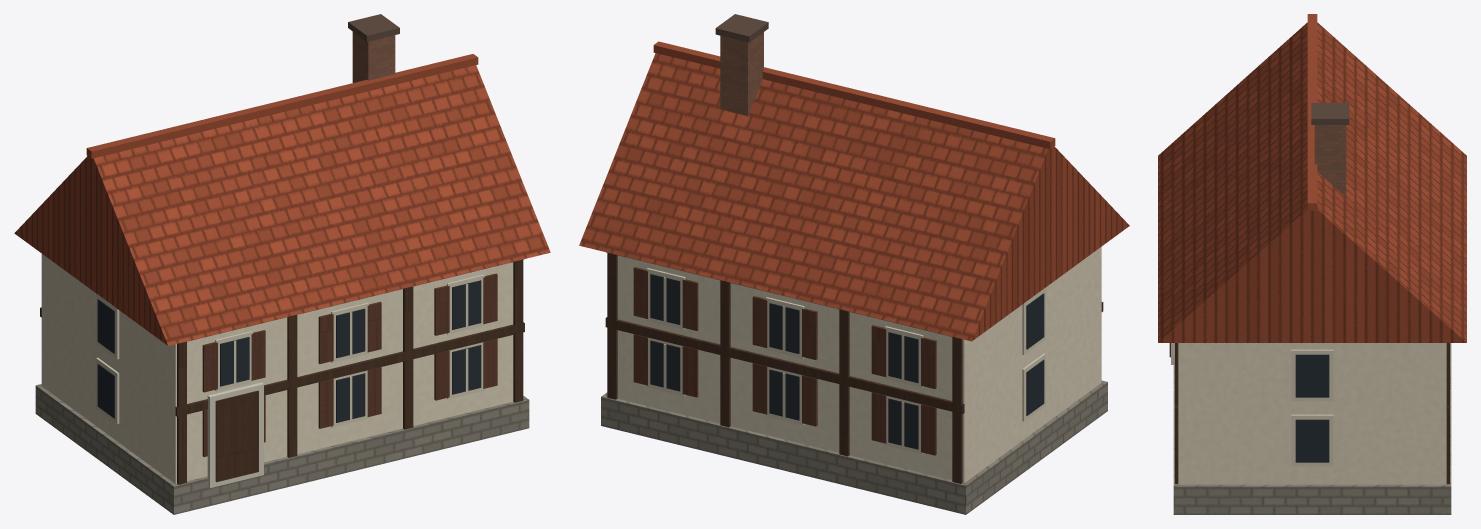
The model's file is farmhouse.glb.
The picture shows the model from 3 angles, left to right: view 1: azimuth 30°, elevation 25°; view 2: azimuth 150°, elevation 25°; view 3: azimuth 270°, elevation 25°; orthographic projection. The views are drawn at different scales.
Visible parts, largest first — view 1: farmhouse; view 2: farmhouse; view 3: farmhouse.
Part boxes in pixels (box(x1,y1,x2,y2)): farmhouse: box(14, 14, 550, 514); farmhouse: box(579, 14, 1129, 514); farmhouse: box(1158, 14, 1466, 514).
Bounding box in the file's own units: 10 × 9.02 × 6.9.
Materials: 1 (1 with a texture image).
